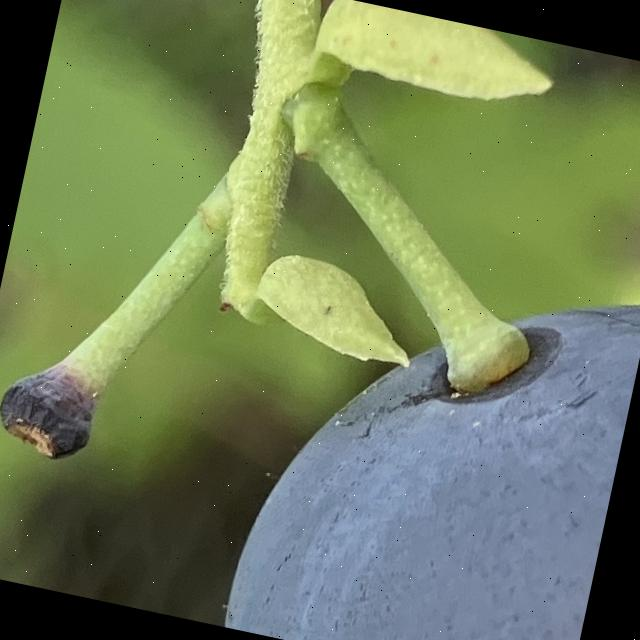Blueberries: (215, 217, 640, 640)
